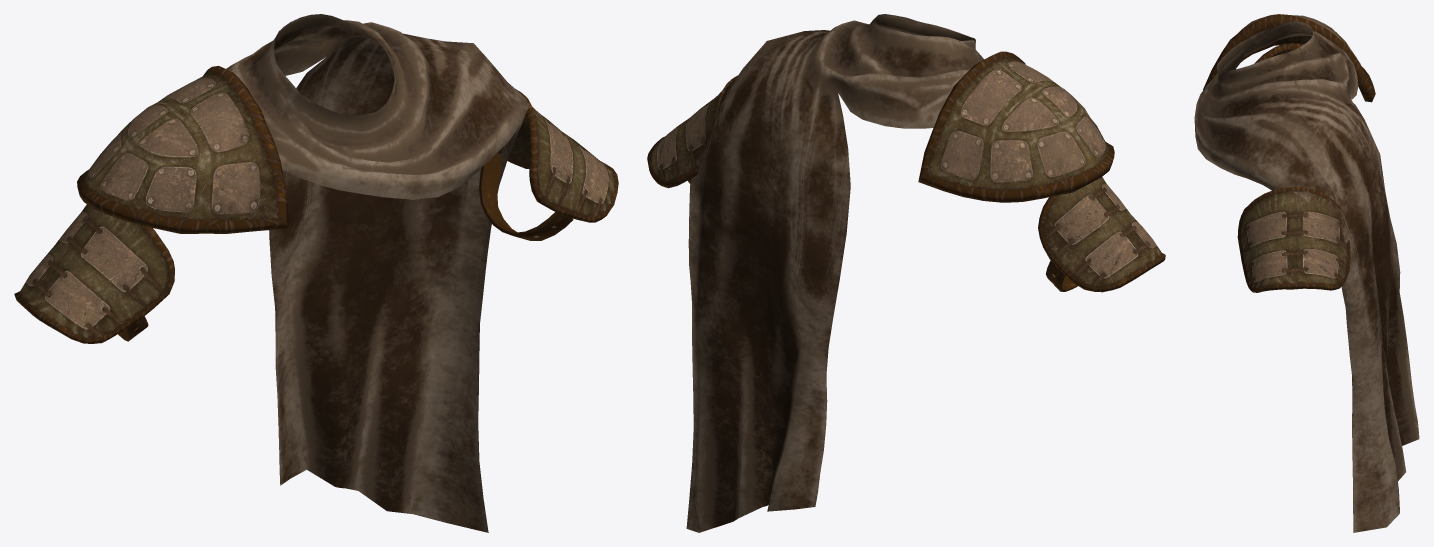
The model's file is dunland_caerdh_pauldron_heavy_cape_b.fbx.
3 renders of one model, left to right at view 1: azimuth 30°, elevation 25°; view 2: azimuth 150°, elevation 25°; view 3: azimuth 270°, elevation 25°, orthographic. The views are drawn at different scales.
Parts seen in each view (by area): view 1: dunland_caerdh_pauldron_heavy_cape_b.cape, dunland_caerdh_pauldron_heavy_cape_b; view 2: dunland_caerdh_pauldron_heavy_cape_b.cape, dunland_caerdh_pauldron_heavy_cape_b; view 3: dunland_caerdh_pauldron_heavy_cape_b.cape, dunland_caerdh_pauldron_heavy_cape_b.
Part boxes in pixels (x1,y1,x2,y2): dunland_caerdh_pauldron_heavy_cape_b.cape: (226,14,528,532); dunland_caerdh_pauldron_heavy_cape_b: (14,66,618,343); dunland_caerdh_pauldron_heavy_cape_b.cape: (686,14,983,532); dunland_caerdh_pauldron_heavy_cape_b: (647,51,1165,292); dunland_caerdh_pauldron_heavy_cape_b.cape: (1194,21,1419,532); dunland_caerdh_pauldron_heavy_cape_b: (1203,14,1375,292).
Size of the model in its own units: 0.8069 by 0.3738 by 0.7842.
2 materials, 2 textured.
